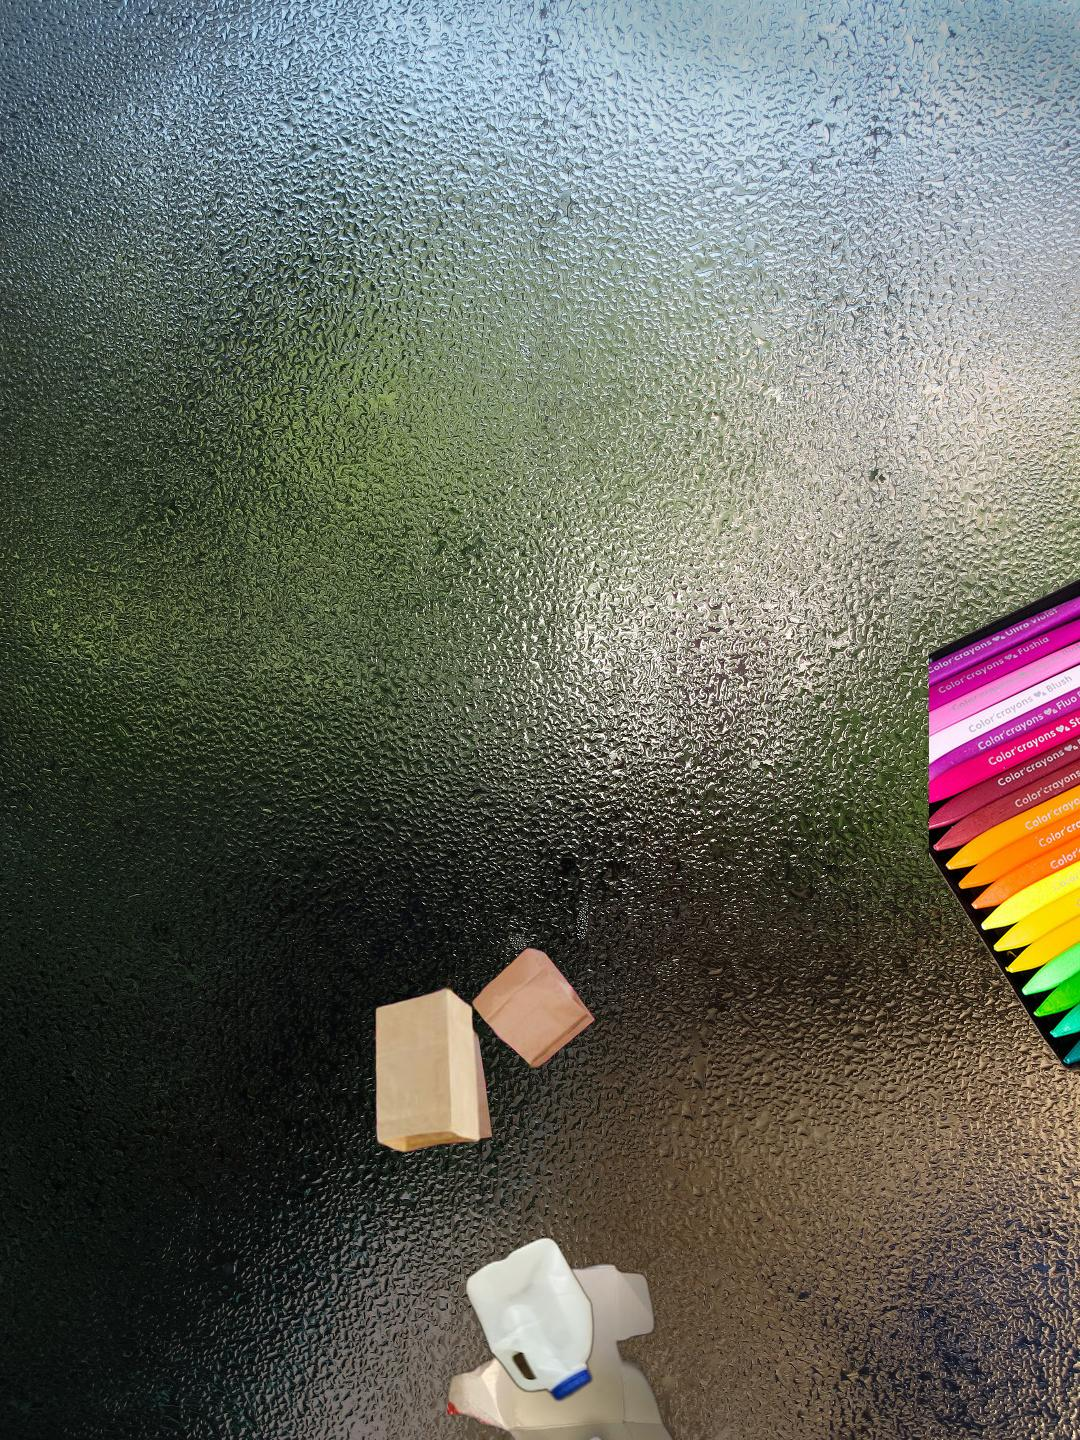paper: (440, 1260, 685, 1440)
paper-bag: (372, 945, 598, 1155)
penholder: (929, 392, 1080, 1077)
plastic-bottles: (461, 1231, 597, 1407)
